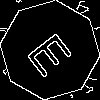E: (25, 25, 82, 79)
